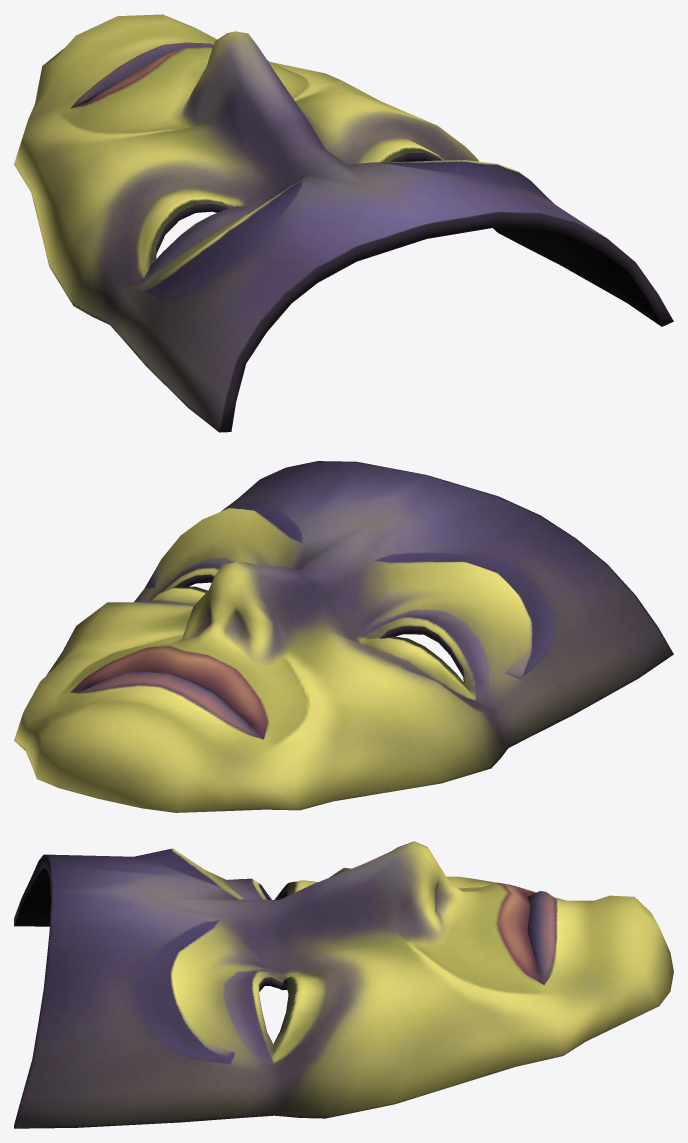
File: anim1_000248.obj
3 renders of one model, top to bottom at view 1: azimuth 30°, elevation 25°; view 2: azimuth 150°, elevation 25°; view 3: azimuth 270°, elevation 25°, orthographic. The views are drawn at different scales.
Visible parts, largest first — view 1: 151out; view 2: 151out; view 3: 151out.
Part boxes in pixels (x1,y1,x2,y2): 151out: (14,14,673,432); 151out: (14,461,673,812); 151out: (14,841,673,1128).
Size of the model in its own units: 4.16 by 1.69 by 5.52.
